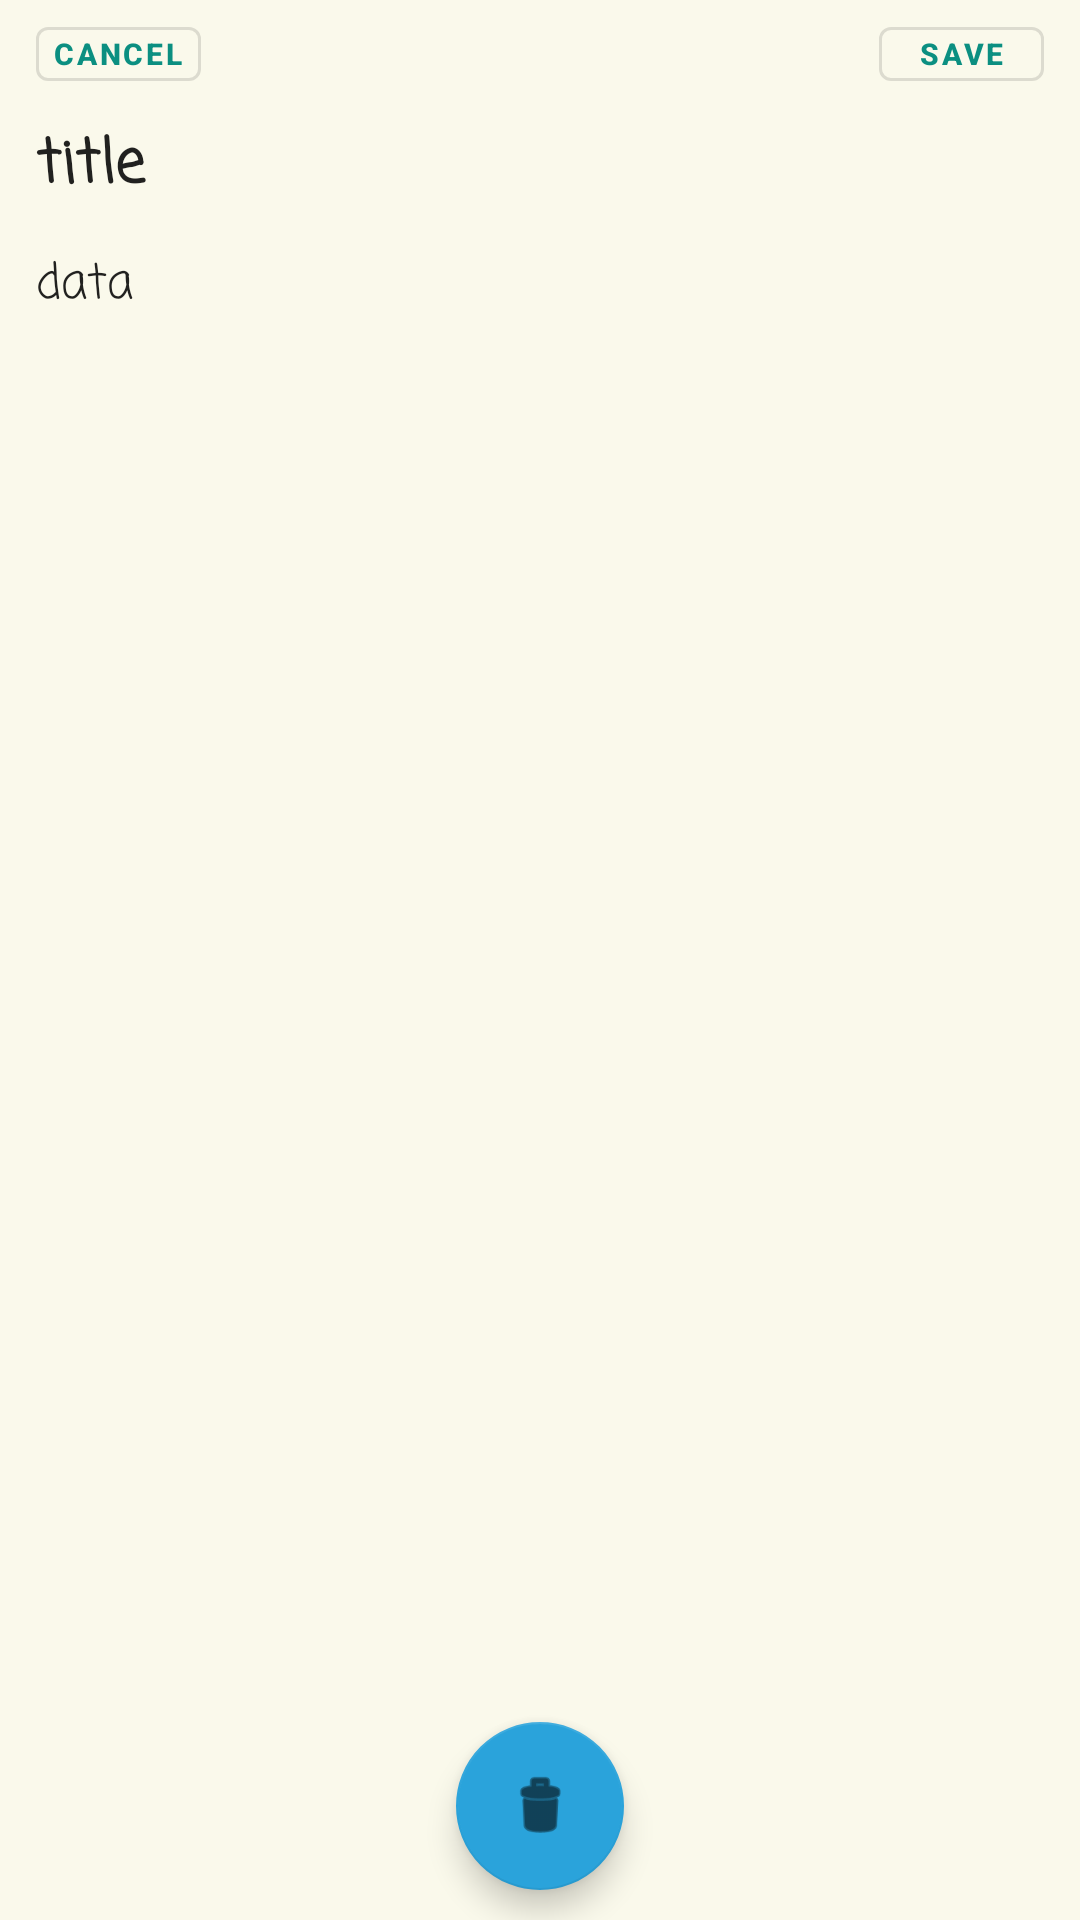

Where icons sit on this 1080*1920 app screen, as (x1, y1, x2, y2):
delete: (456, 1722, 624, 1890)
